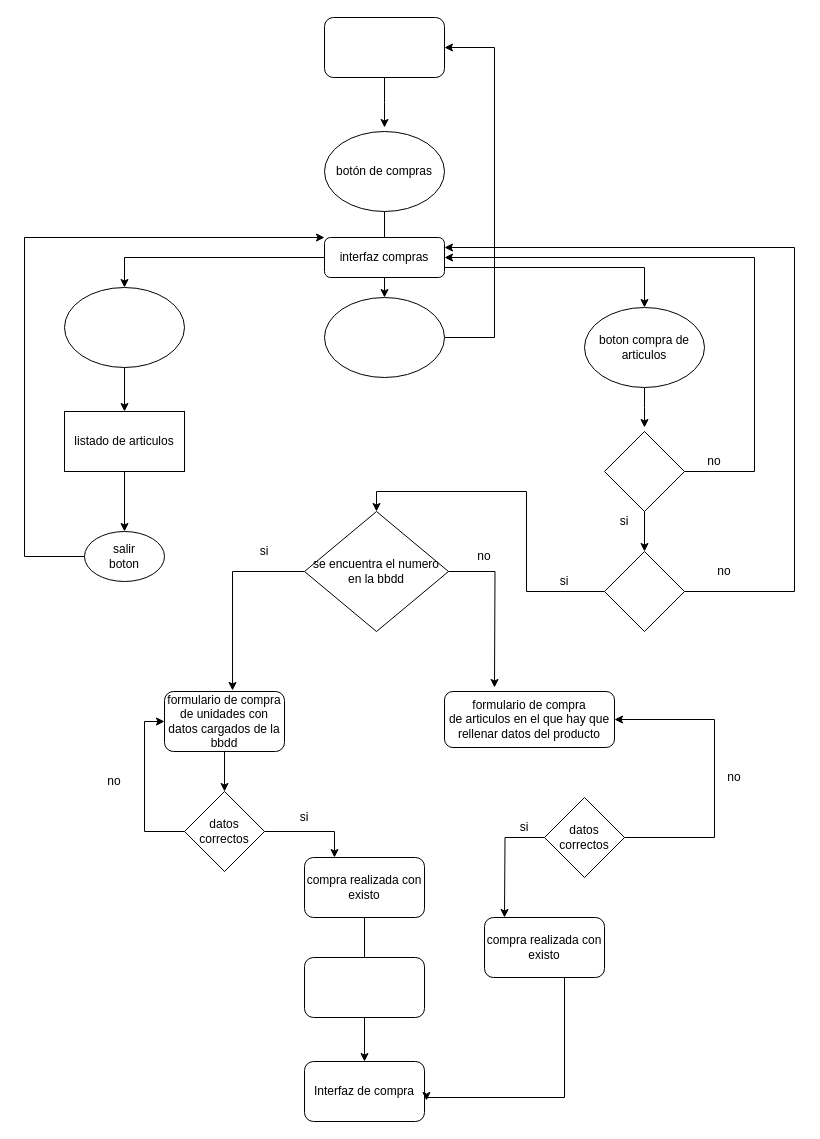
The diagram is 820 pixels wide and 1139 high, and some of its shapes have lost their labels. The shapes that lost their labels are listed below. From the top down, each one's centre as x and y in pixels, then its label:
(384,47): Interfaz principal
(124,327): boton listado
(384,337): boton salir
(644,471): añadido nº referencia
(644,591): nº valido
(364,987): se actualizan unidades
